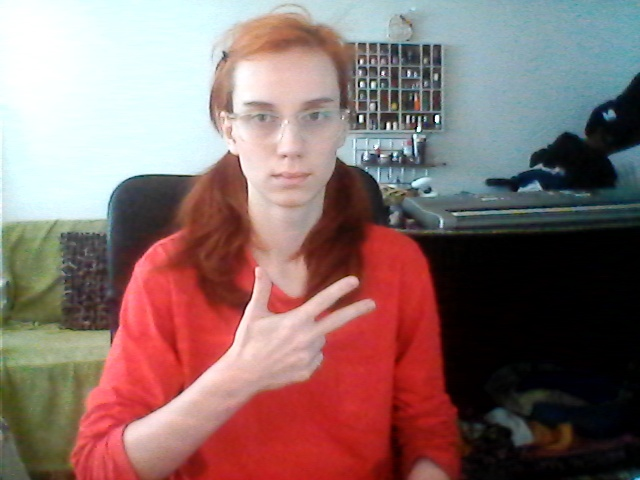tri: (233, 264, 381, 391)
